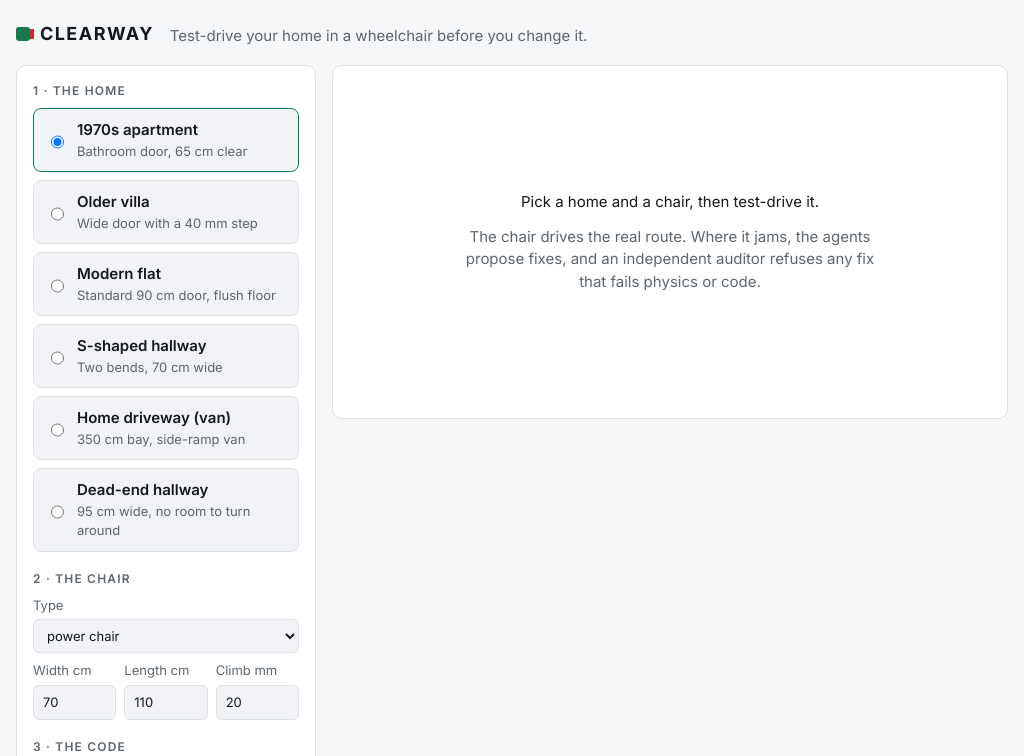
Test: car mode: the van drives, its ramp jams before the fix, and the chair rolls off after
This screenshot has width=1024, height=756.
Step 1. Click the radio button labelled "Home driveway (van) 350 cm bay, side-ramp van" → (58, 430), box [51, 411, 64, 449]
(page scrolled)
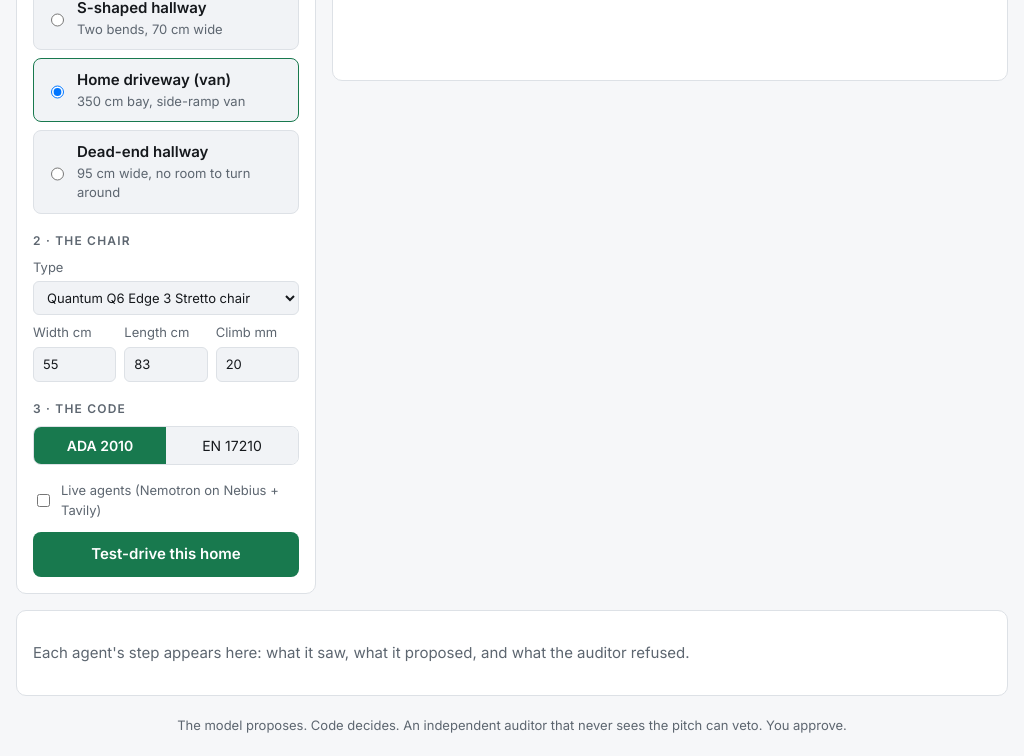
Step 2. Click the button "Test-drive this home" → (166, 554), box [33, 532, 299, 576]
(page scrolled)
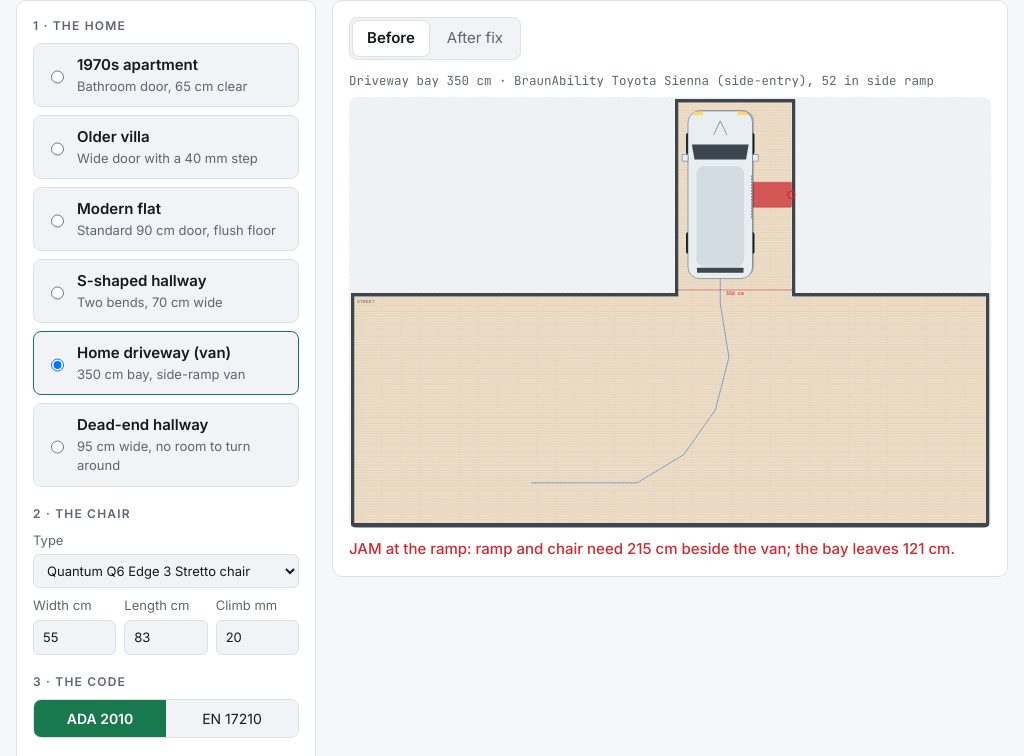
Expected: the element with class "bad" is shown, [752, 182, 791, 207]
Expected: the message shows "JAM at the ramp: ramp and chair need 215 cm beside the van; the bay leaves 121 cm.", [349, 539, 955, 558]
Step 3. Click the tab "After fix" → (475, 38), box [433, 21, 517, 56]
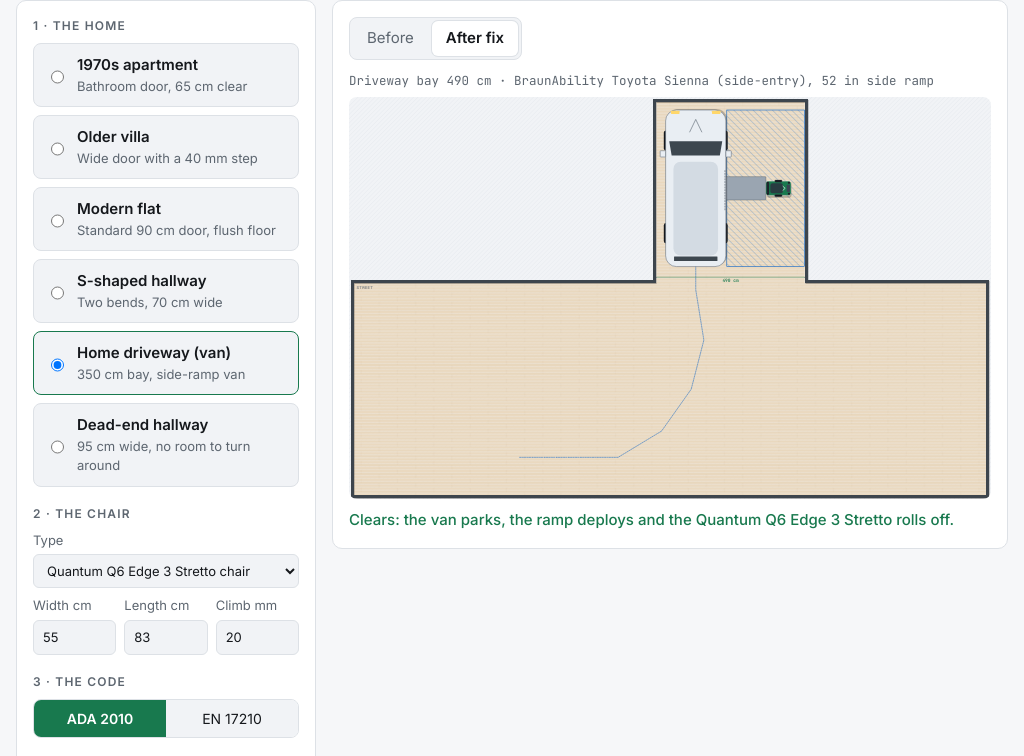
Expected: the element with class "ramp" is shown, [726, 176, 766, 199]
Expected: the message shows "Clears: the van parks, the ramp deploys", [349, 510, 954, 529]
